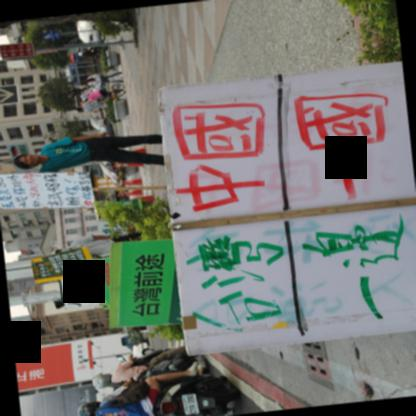handbag: (99, 379, 149, 407)
